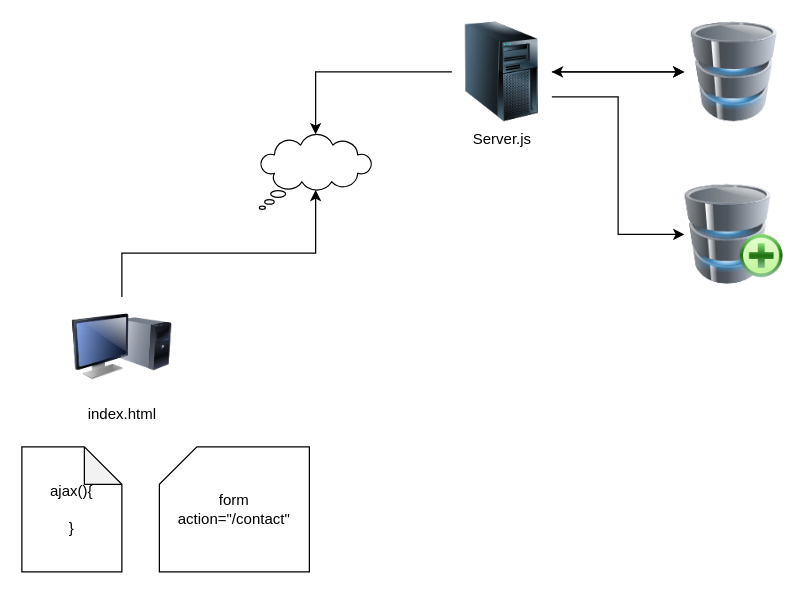
Some shapes in this 806 by 594 pixel diagram are drawn without their labels. The centre of each missing label's shape, as x and y in pixels:
contact.db: point (734, 234)
profolio.db: point (734, 71)
